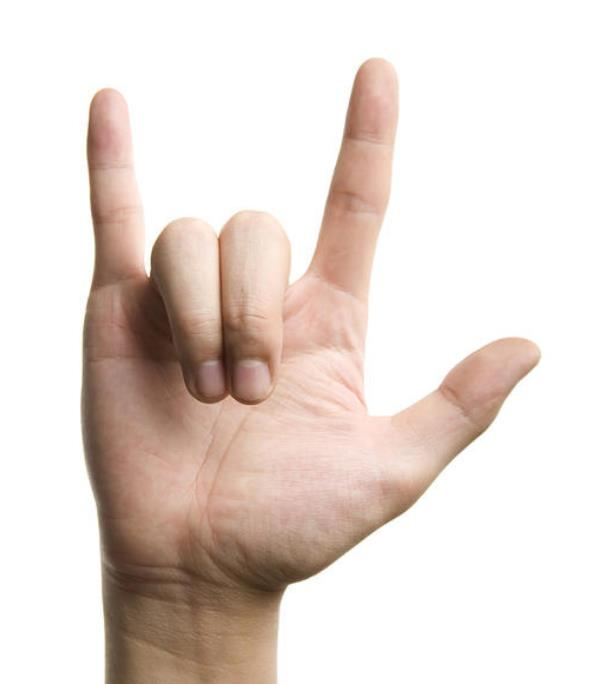back: (70, 52, 549, 579)
